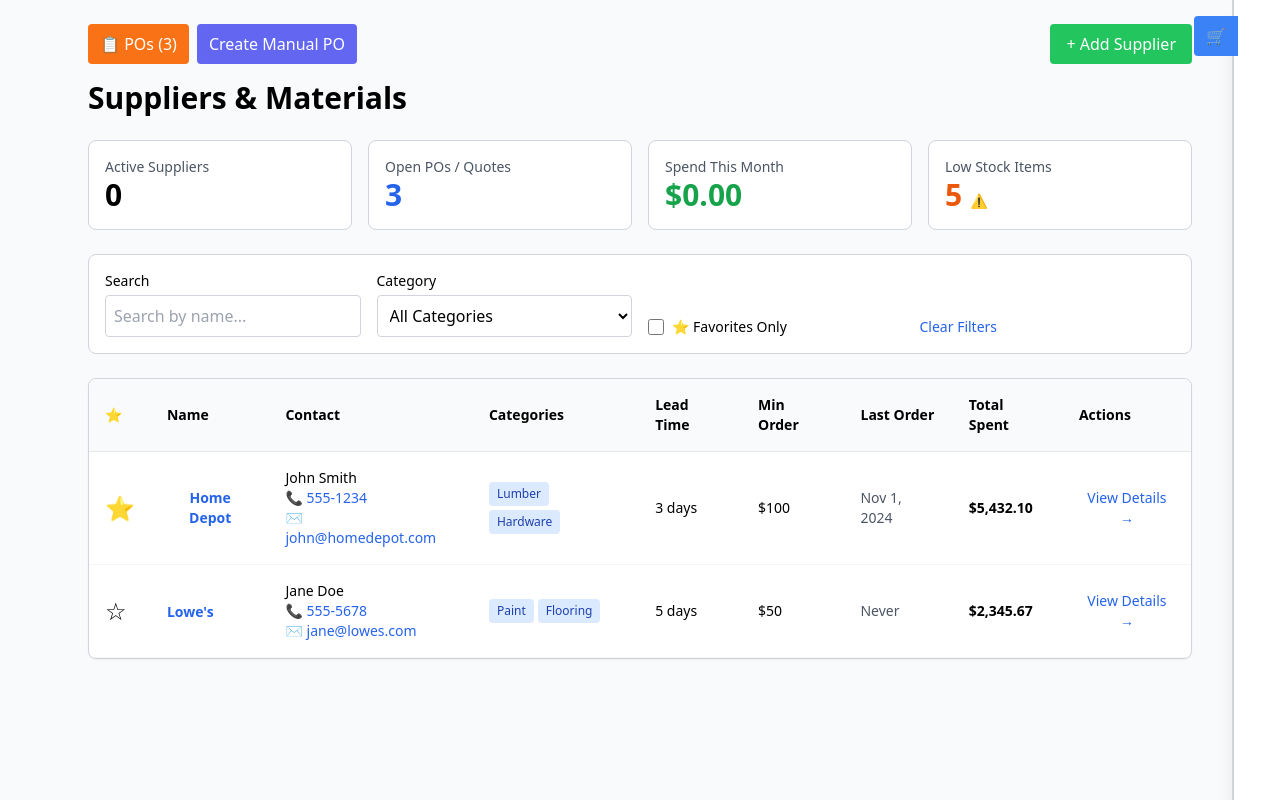
Test: Suppliers Component - Phase 1 & Catalog Management (Phase 2D) › should search suppliers by name
Type "Home" into the field with placeholder "Search by name...". click: [233, 316]
box: [105,295,360,337]
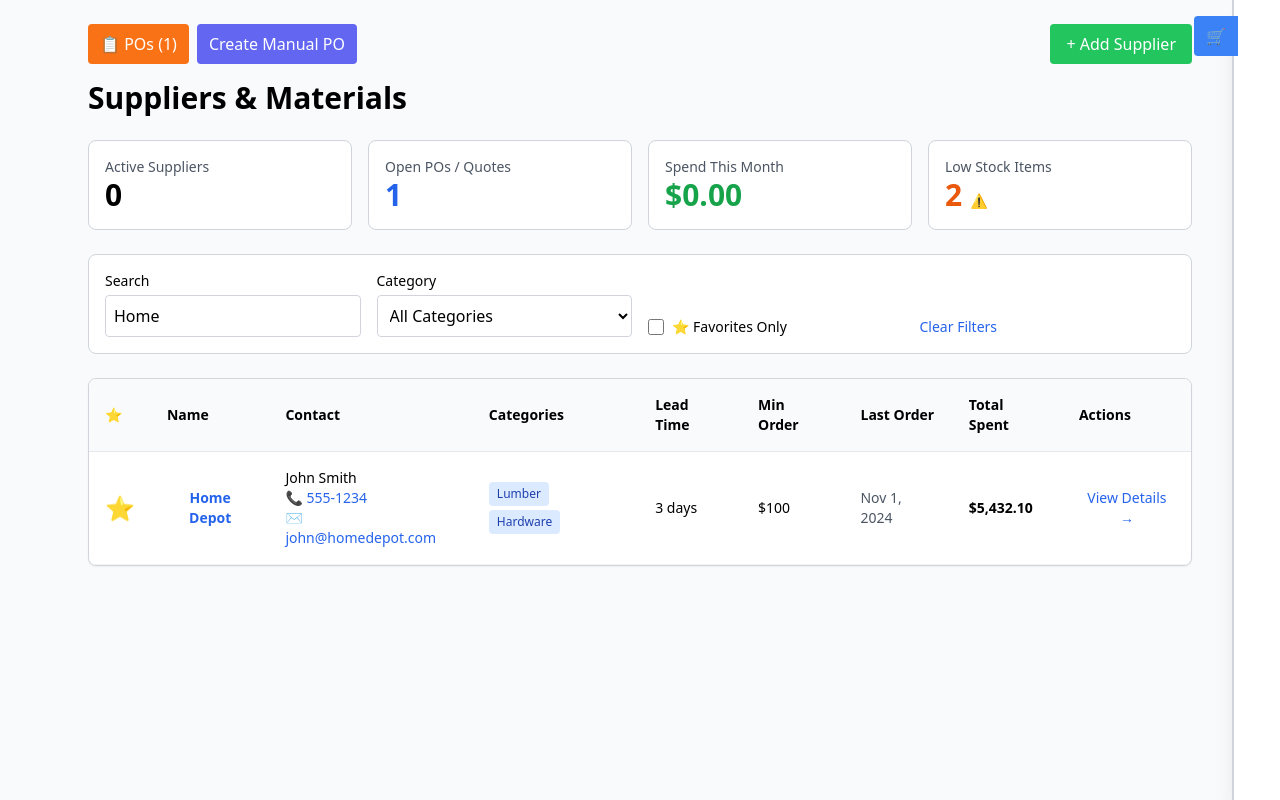
Expected: the button "Lowe's" is gone
